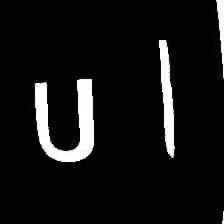LTR_U: (25, 71, 107, 169)
